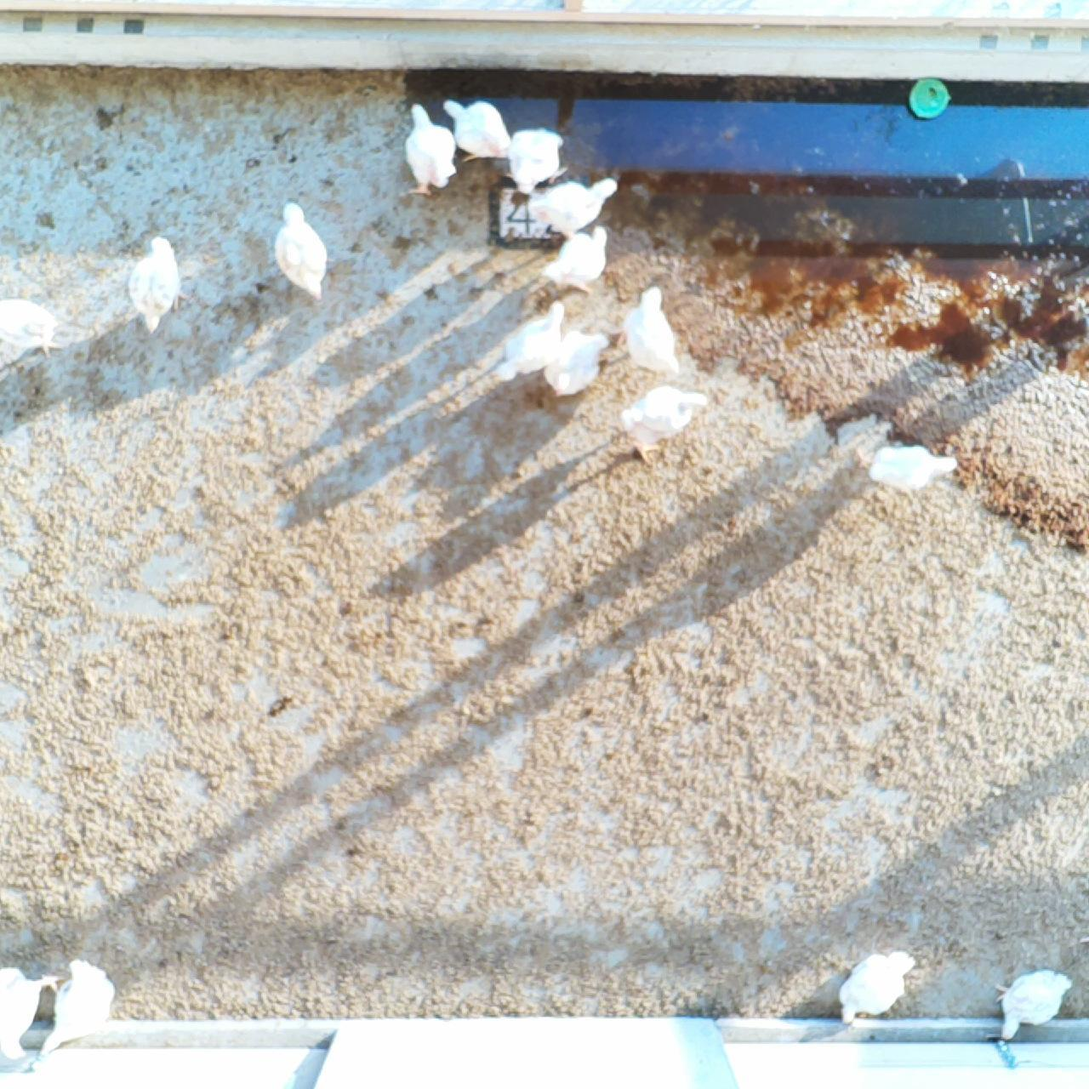chicken: (37, 961, 118, 1060), (991, 967, 1075, 1051), (833, 949, 919, 1029), (121, 233, 185, 334), (616, 385, 713, 450), (1, 967, 62, 1066), (400, 98, 455, 203), (443, 94, 524, 164), (537, 225, 617, 294), (499, 304, 567, 385), (533, 174, 621, 234), (628, 284, 683, 378), (865, 442, 961, 495), (273, 205, 326, 294), (546, 324, 610, 396), (1, 288, 61, 356), (510, 126, 565, 193)
